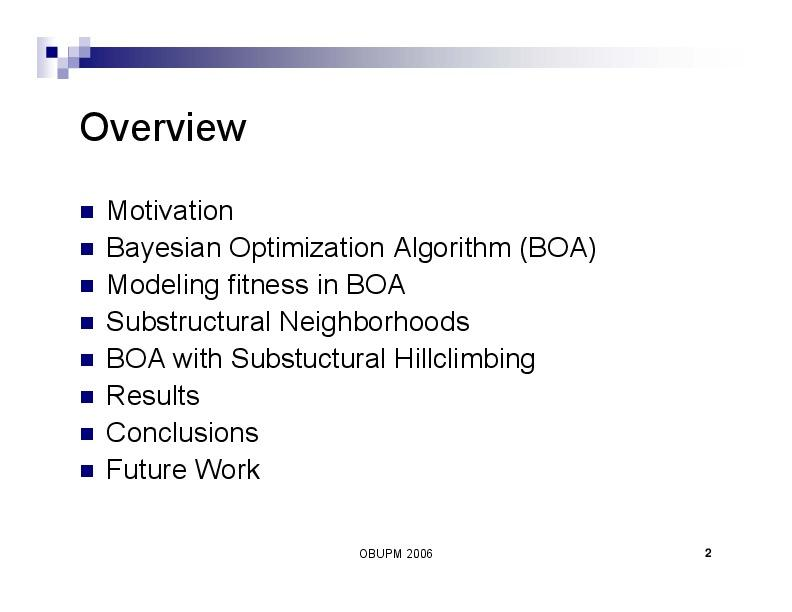subtitle: (104, 228, 604, 268), (102, 339, 542, 380), (102, 305, 480, 337), (104, 268, 409, 300), (101, 186, 278, 228), (100, 409, 266, 450), (108, 454, 268, 487), (102, 376, 209, 413)
title: (73, 105, 250, 156)
